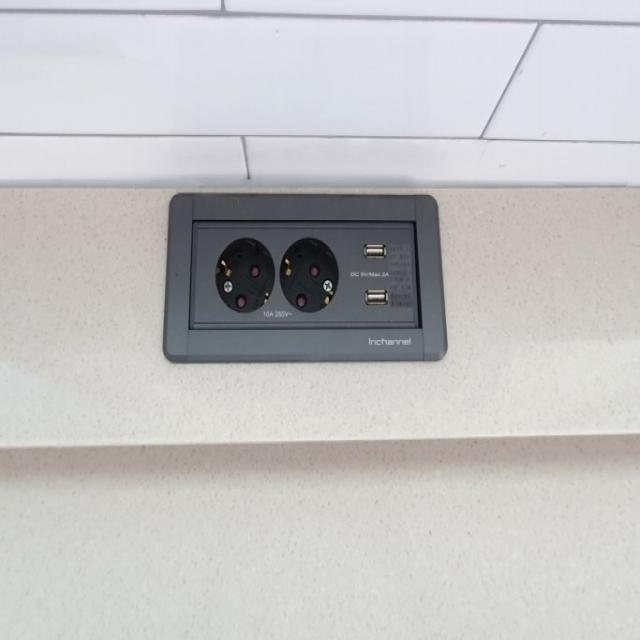typeb: (146, 182, 499, 380)
